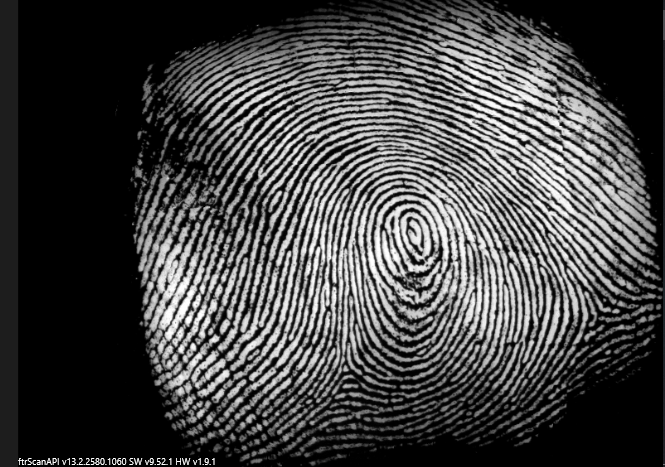deltas: (561, 269, 625, 343), (318, 347, 382, 403)
nucleo: (381, 198, 446, 269)
